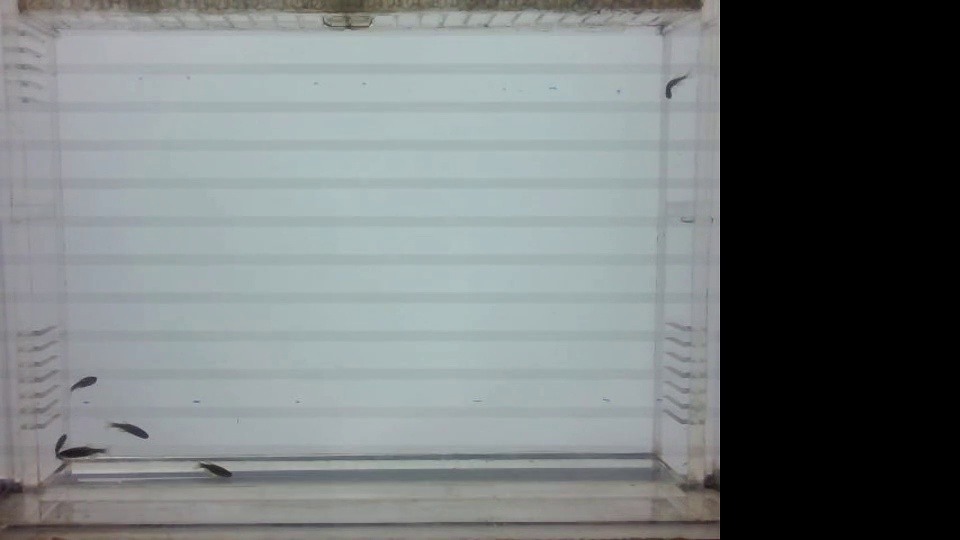fish: (185, 446, 237, 484), (652, 68, 696, 106), (96, 416, 148, 441), (52, 444, 108, 464), (61, 373, 100, 400), (48, 425, 72, 453)
